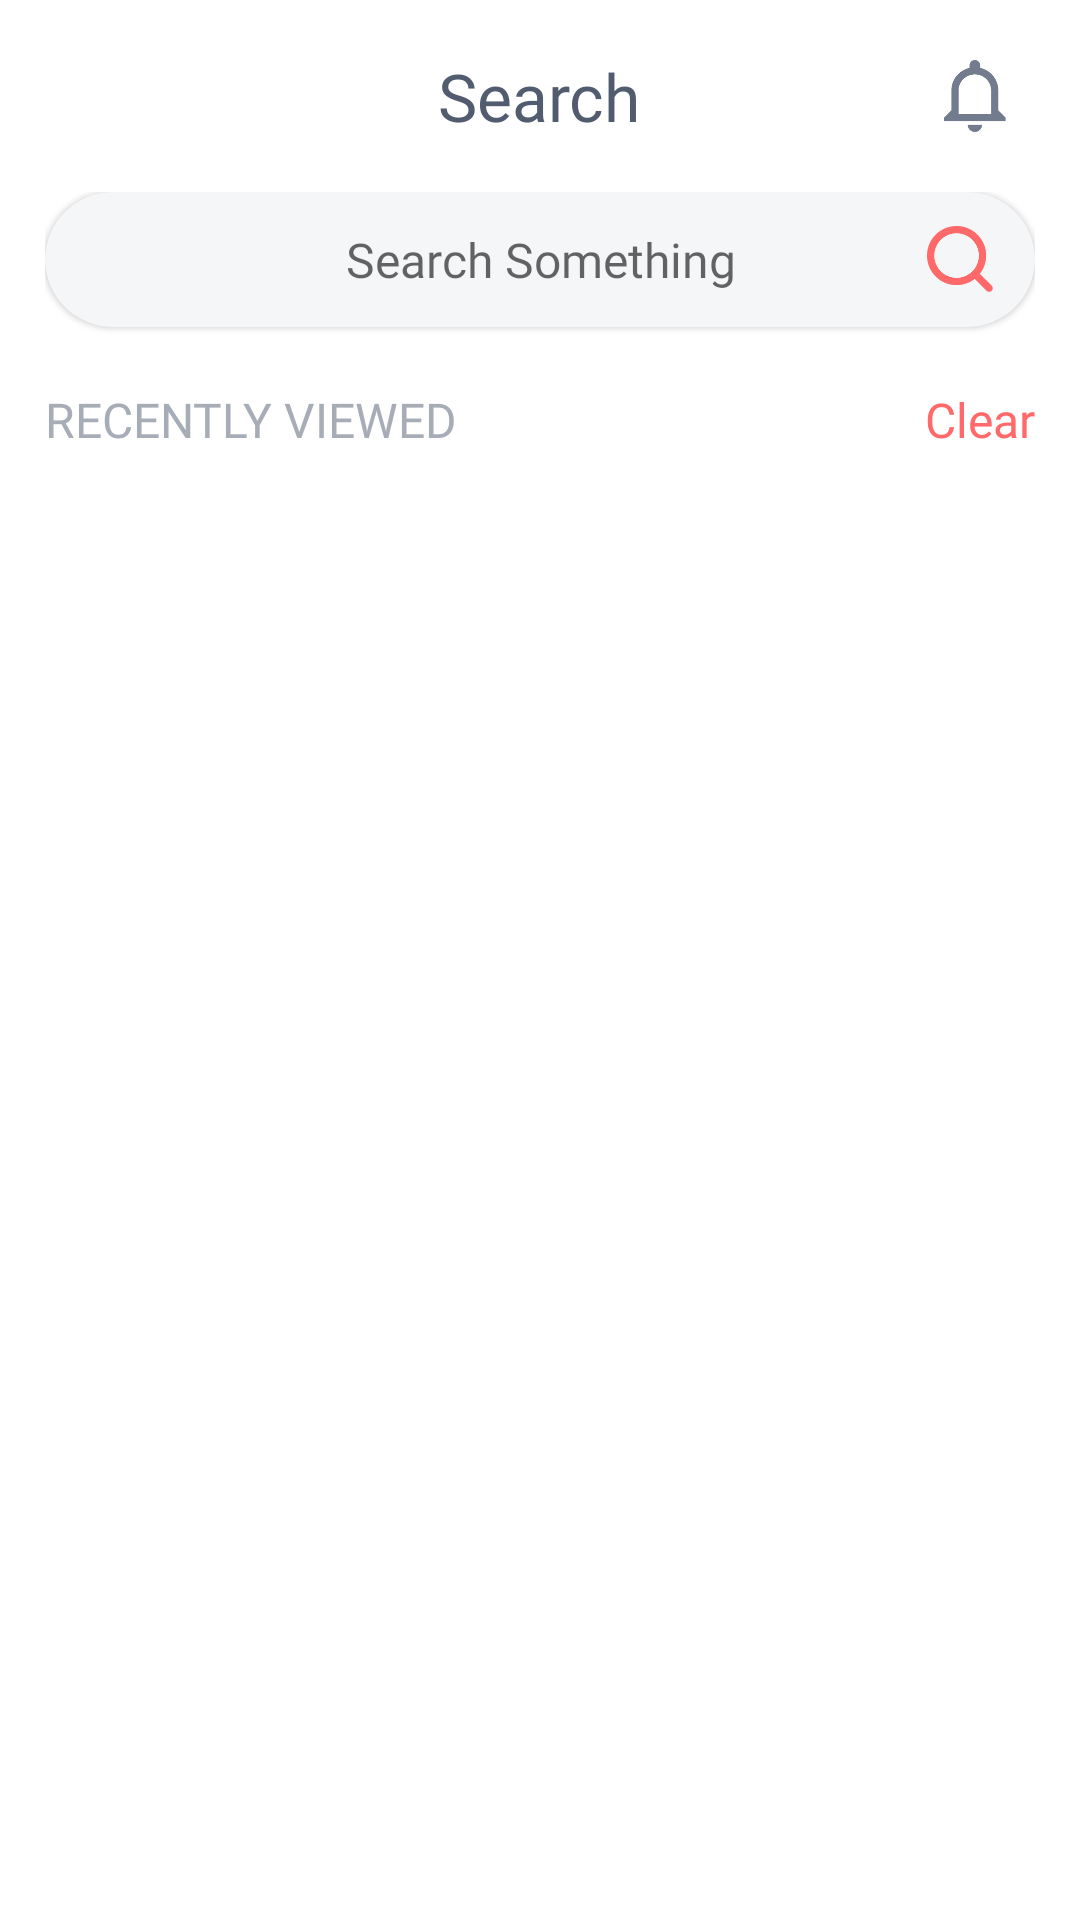

Icon bounding boxes for this 1080px x 1920px phone screenshot, format (x1, y1, x2, y2):
notifications: (944, 60, 1006, 132)
